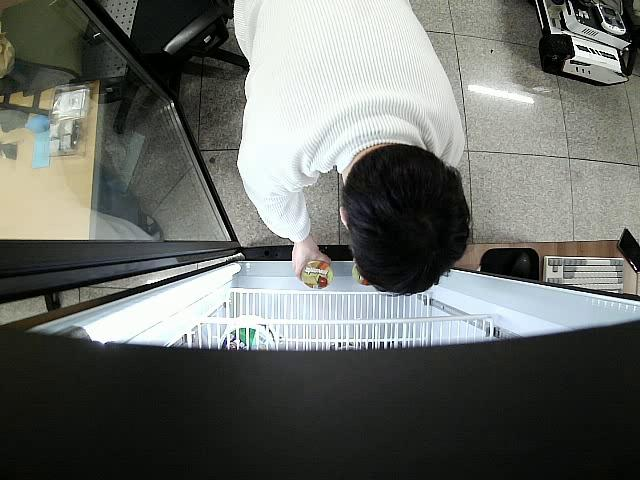00_hand: (291, 241, 332, 283)
04_chapagetti_S: (301, 261, 333, 289)
